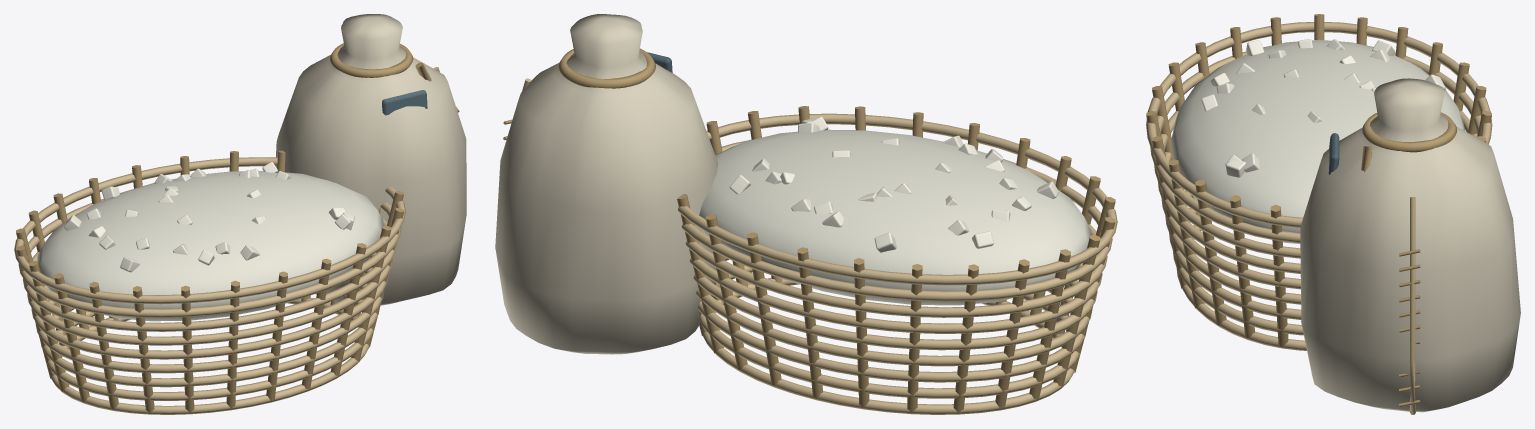
The model's file is salt.glb.
The picture shows the model from 3 angles, left to right: view 1: azimuth 30°, elevation 25°; view 2: azimuth 150°, elevation 25°; view 3: azimuth 270°, elevation 25°; orthographic projection. The views are drawn at different scales.
Parts seen in each view (by area): view 1: Cargo_salt; view 2: Cargo_salt; view 3: Cargo_salt.
Part boxes in pixels (box(x1,y1,x2,y2)): Cargo_salt: box(14, 14, 466, 414); Cargo_salt: box(495, 14, 1117, 414); Cargo_salt: box(1146, 14, 1520, 414).
Size of the model in its own units: 0.9563 by 0.5092 by 0.5802.
